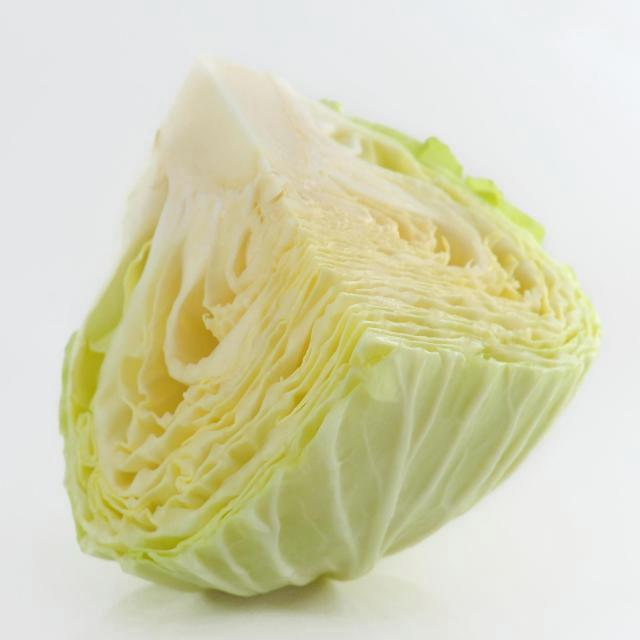cabbage: (54, 51, 608, 606)
